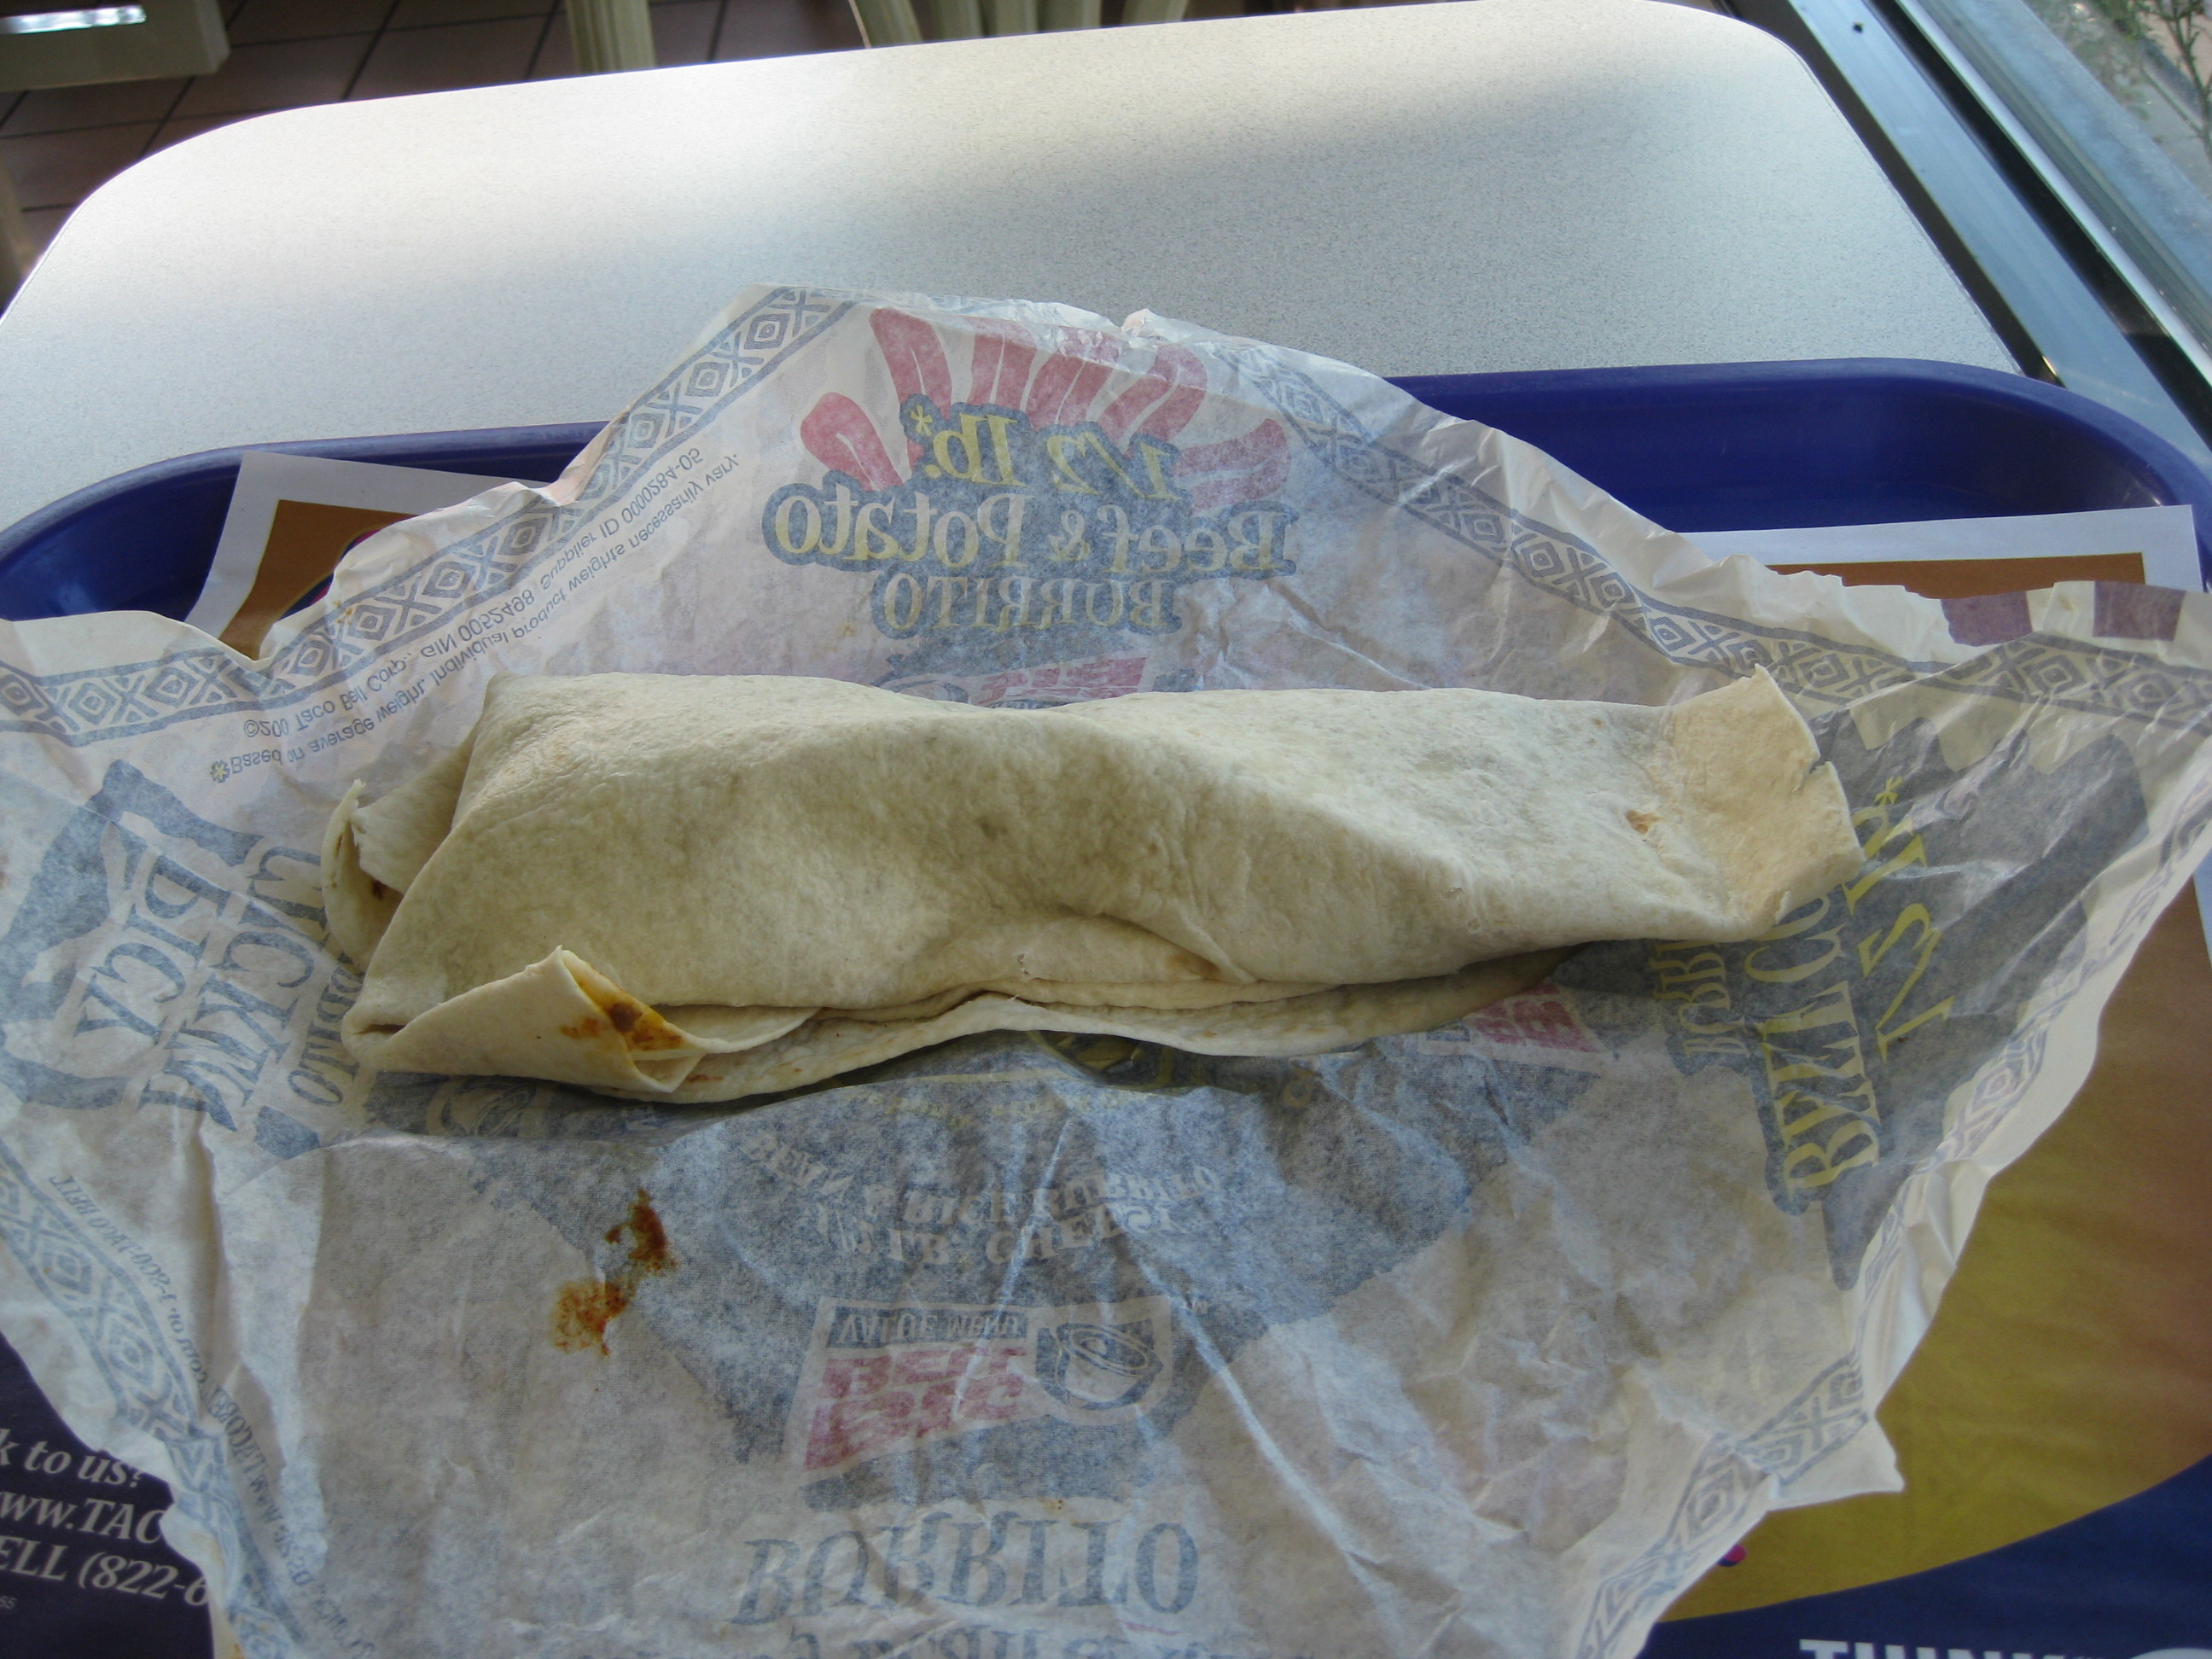burrito: (317, 620, 2000, 1109)
